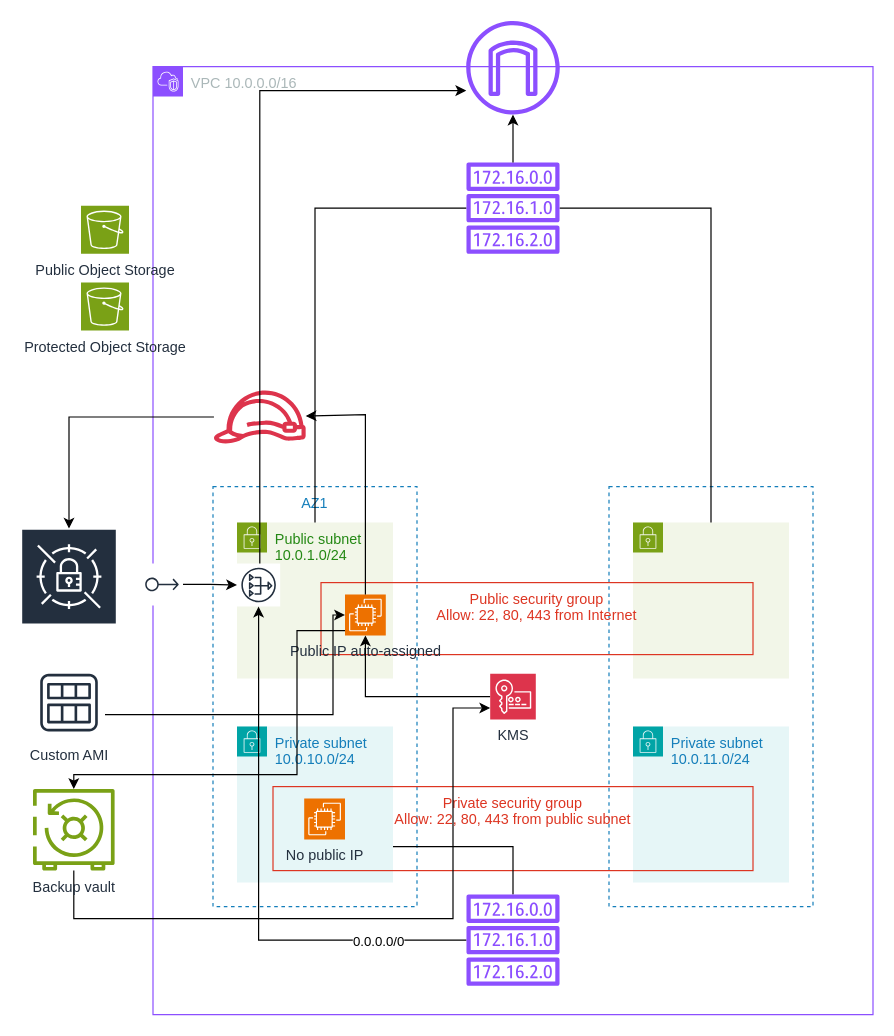
The diagram is 894 pixels wide and 1036 high, and some of its shapes have lost their labels. The centre of each missing label's shape, as x and y in pixels:
AWS Secrets Manager: the point at 68,594
AZ2: the point at 710,696
Elastic IP Address: the point at 161,583
NAT gateway: the point at 258,584
Private route table: the point at 512,939
Public route table: the point at 512,207
Public subnet 10.0.2.0/24: the point at 710,600
